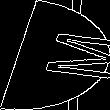M_W: (6, 27, 104, 83)
